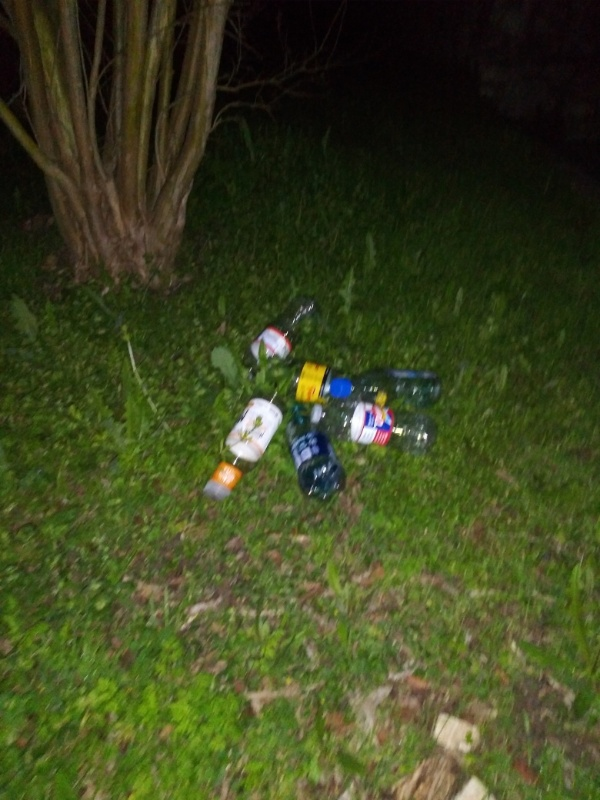bottle: (200, 389, 291, 509), (231, 291, 327, 375), (311, 398, 439, 461), (283, 396, 353, 503), (268, 357, 394, 411), (333, 368, 452, 411)
